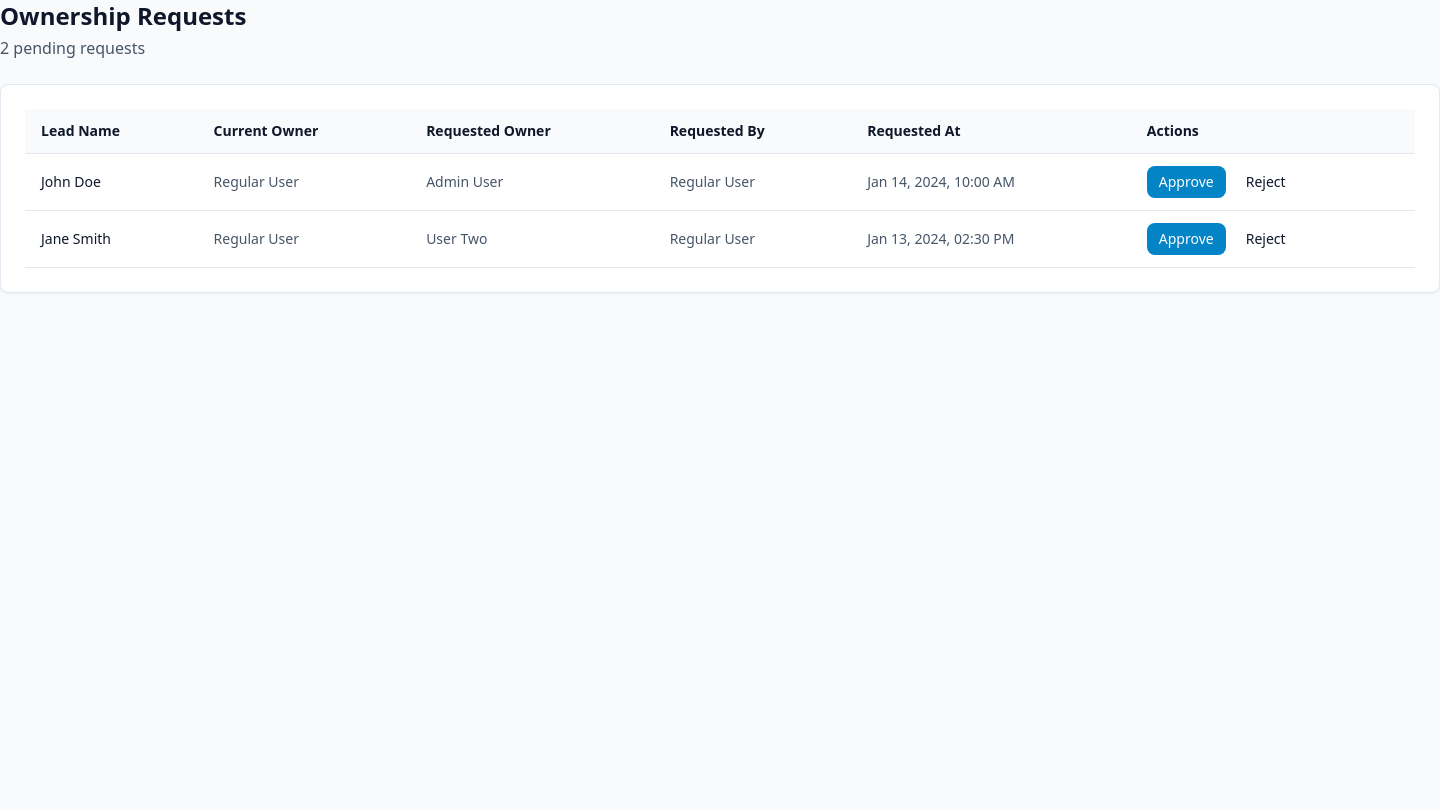
it: OwnershipRequests › Reject Flow › opens reject modal when reject button clicked
Expected: the text "John Doe" is shown, [41,172,101,191]
Click the button "Reject" in the row of "John Doe" at (1266, 182), box [1234,166,1298,198]
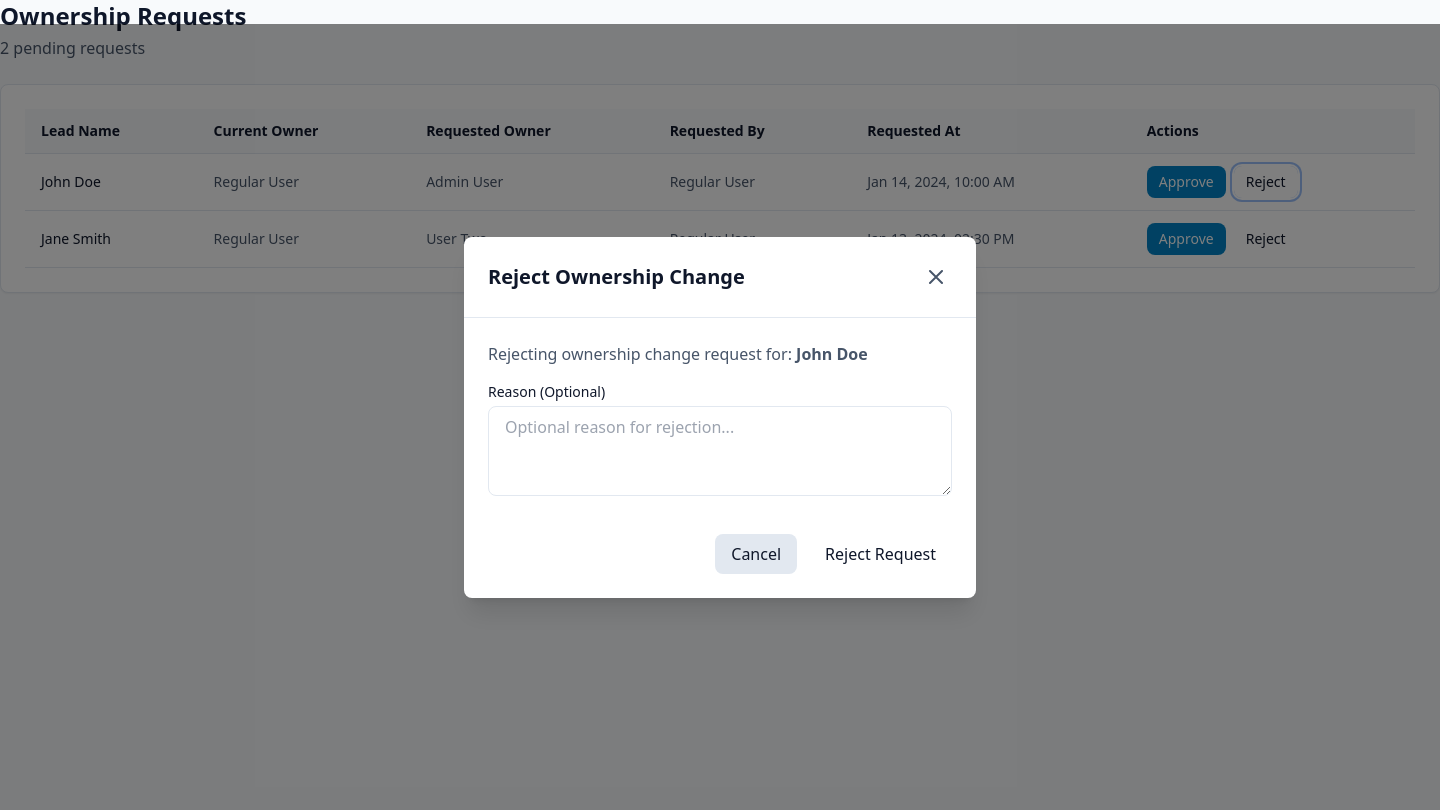
Expected: the heading "Reject Ownership Change" is shown, [488,262,745,290]
